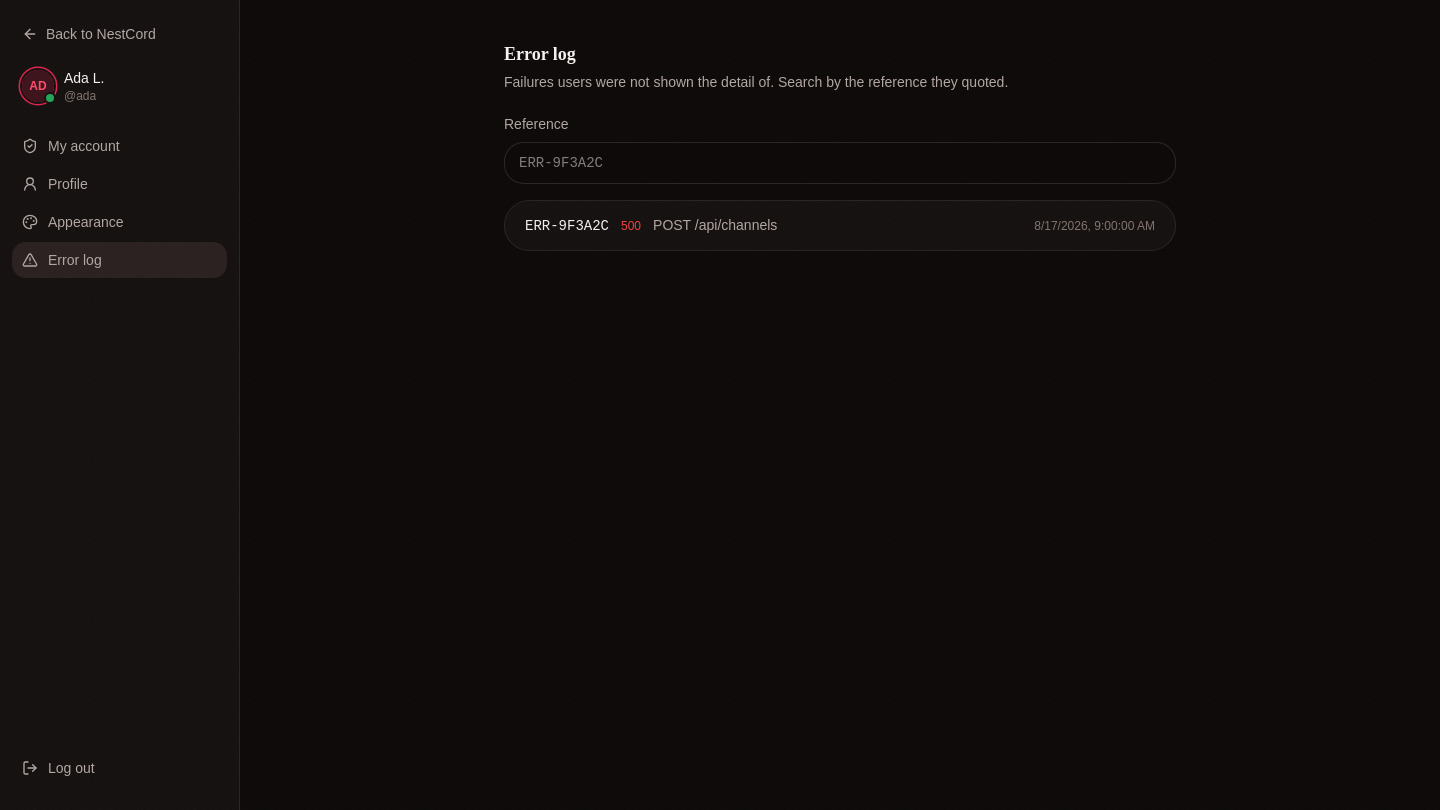
the error log › looks a quoted reference up rather than filtering the page
Typed lower case, as a user would quote it back.
Type "err-11aa22" into the field labelled "Reference" at coordinates (840, 163), box x1=504 y1=142 x2=1176 y2=184
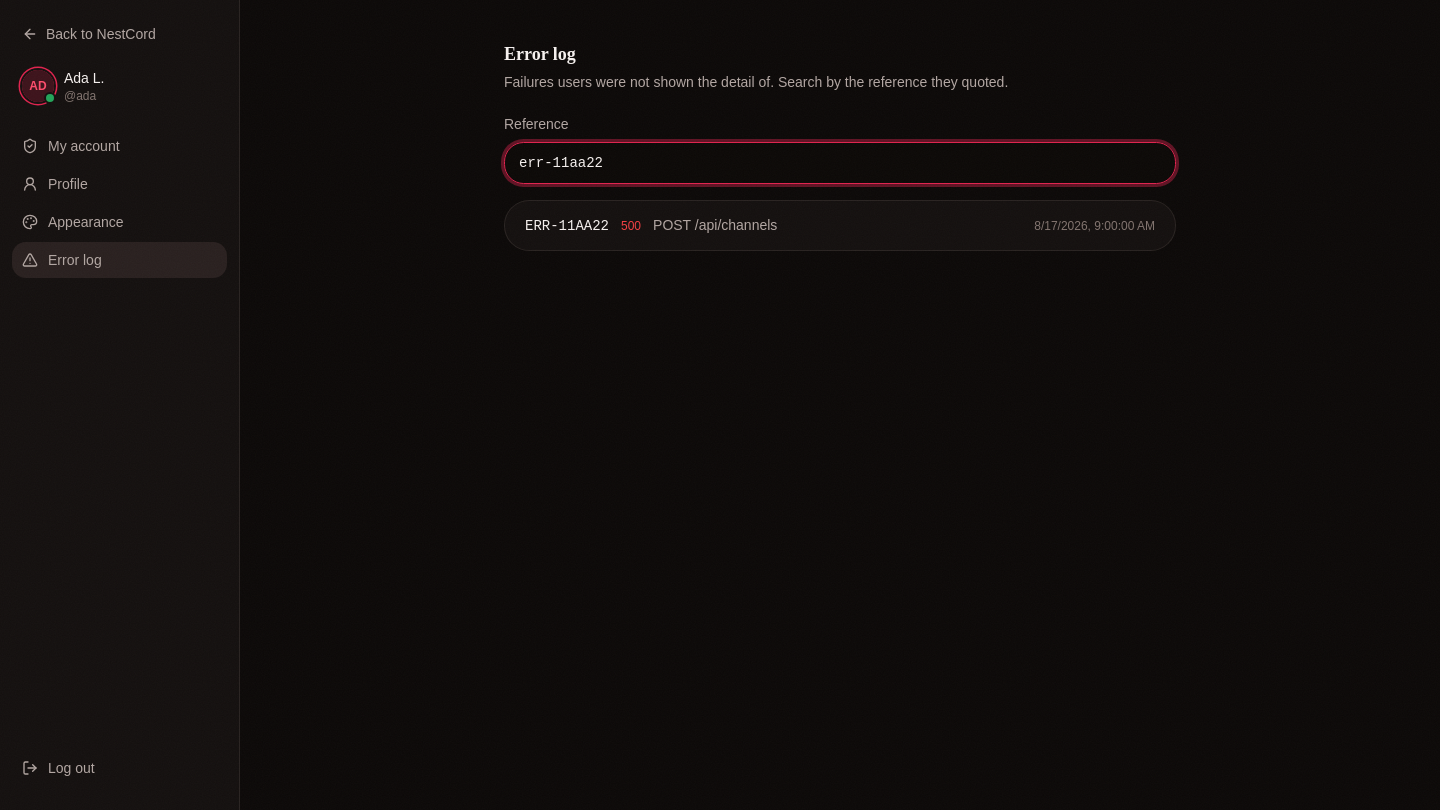
Now the text "ERR-11AA22" is shown, box x1=525 y1=216 x2=609 y2=236
Now the button "ERR-9F3A2C" is gone
